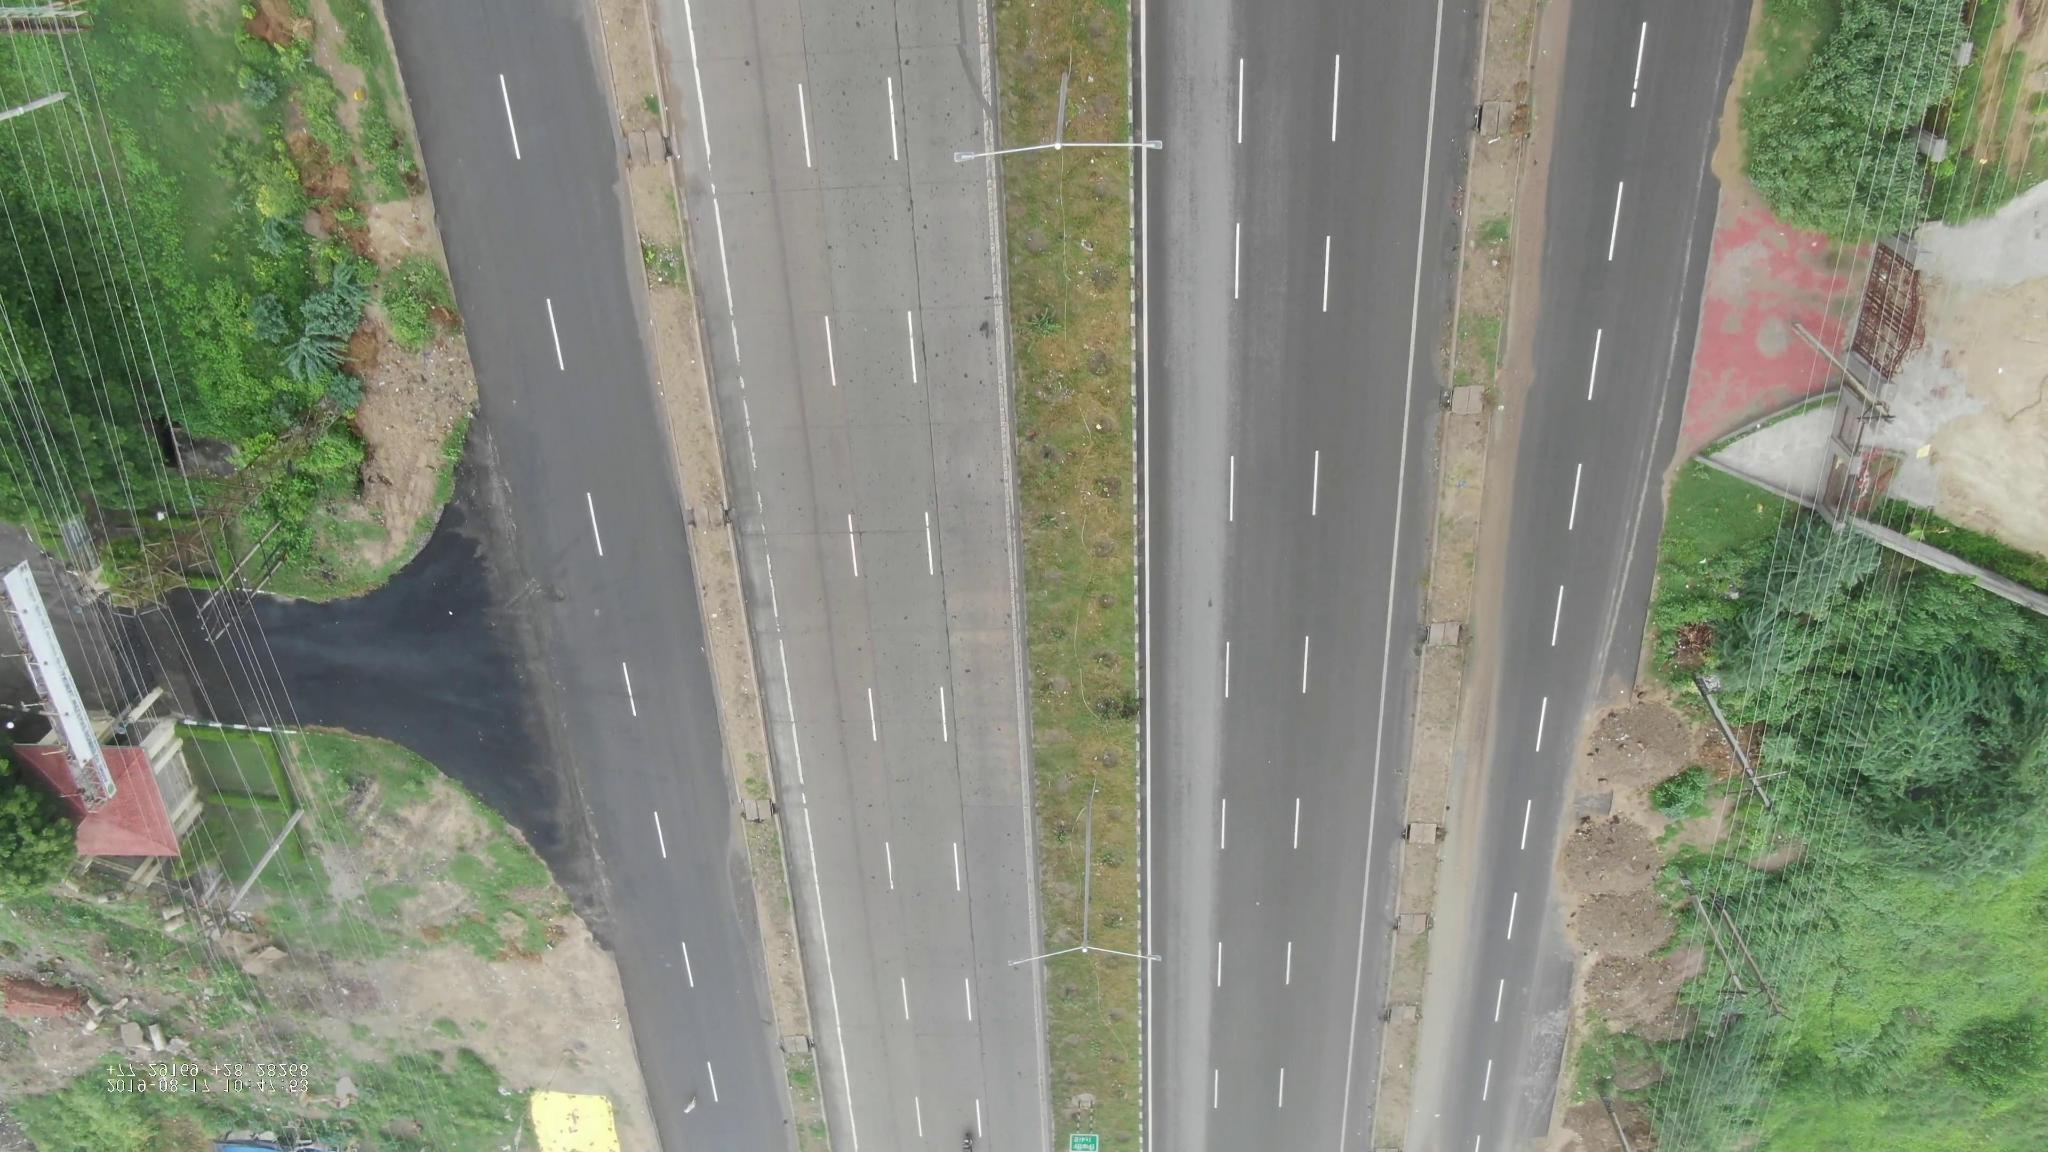Muddy_road: (916, 654, 1006, 750)
